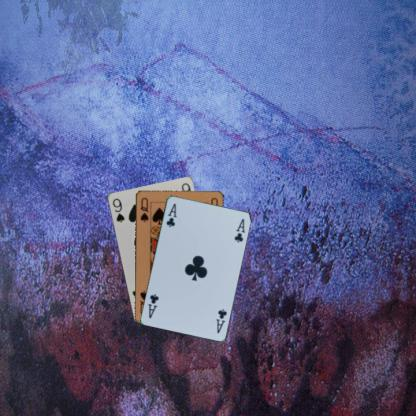9s: (110, 195, 125, 224)
Ac: (213, 306, 228, 335), (163, 201, 178, 228)
Qs: (138, 195, 150, 223)
